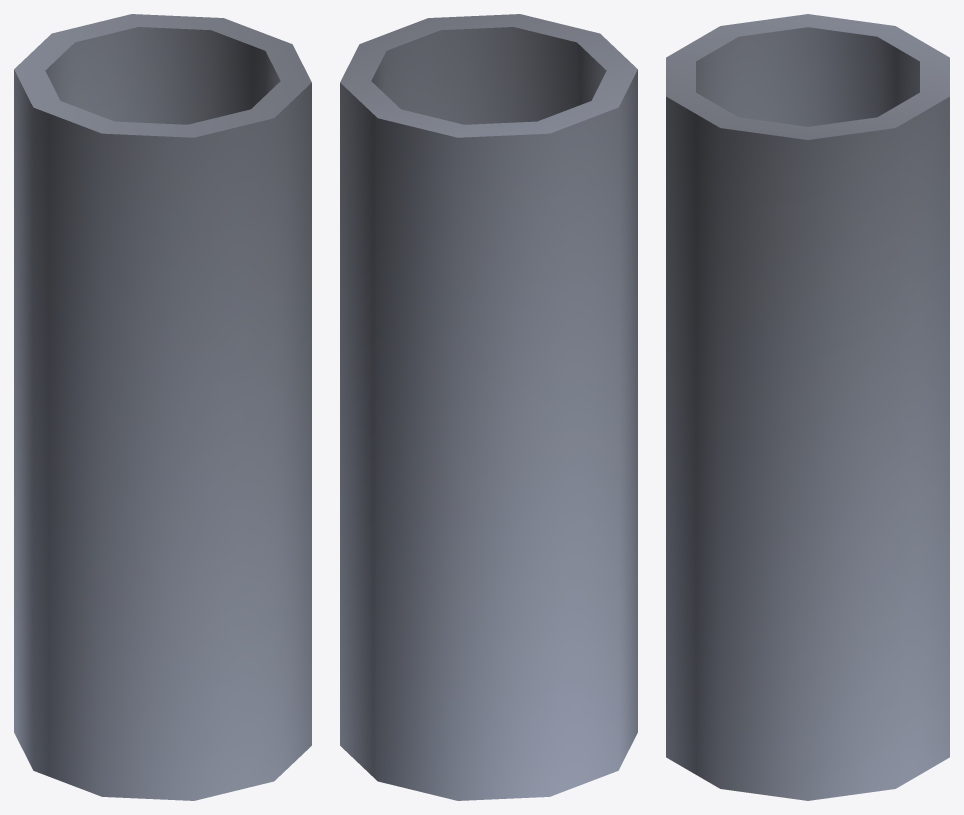
Rendered from POL0110018.fbx.
3 views of the same model, side by side, from view 1: azimuth 30°, elevation 25°; view 2: azimuth 150°, elevation 25°; view 3: azimuth 270°, elevation 25° (orthographic).
Parts seen in each view (by area): view 1: smPOL0110018; view 2: smPOL0110018; view 3: smPOL0110018.
Part boxes in pixels (box(x1,y1,x2,y2)): smPOL0110018: box(14, 14, 311, 800); smPOL0110018: box(340, 14, 637, 800); smPOL0110018: box(666, 14, 949, 800).
Bounding box in the file's own units: 91.02 × 222 × 86.56.
Materials: 1 (1 with a texture image).
